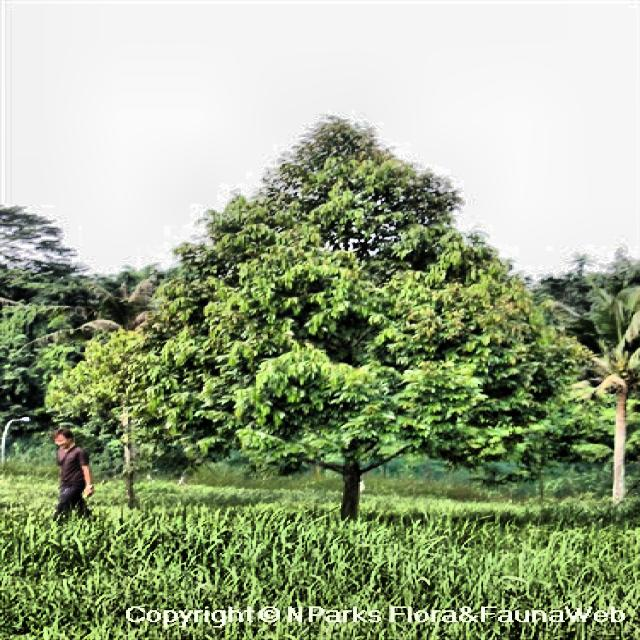arvore: (313, 376, 378, 538)
